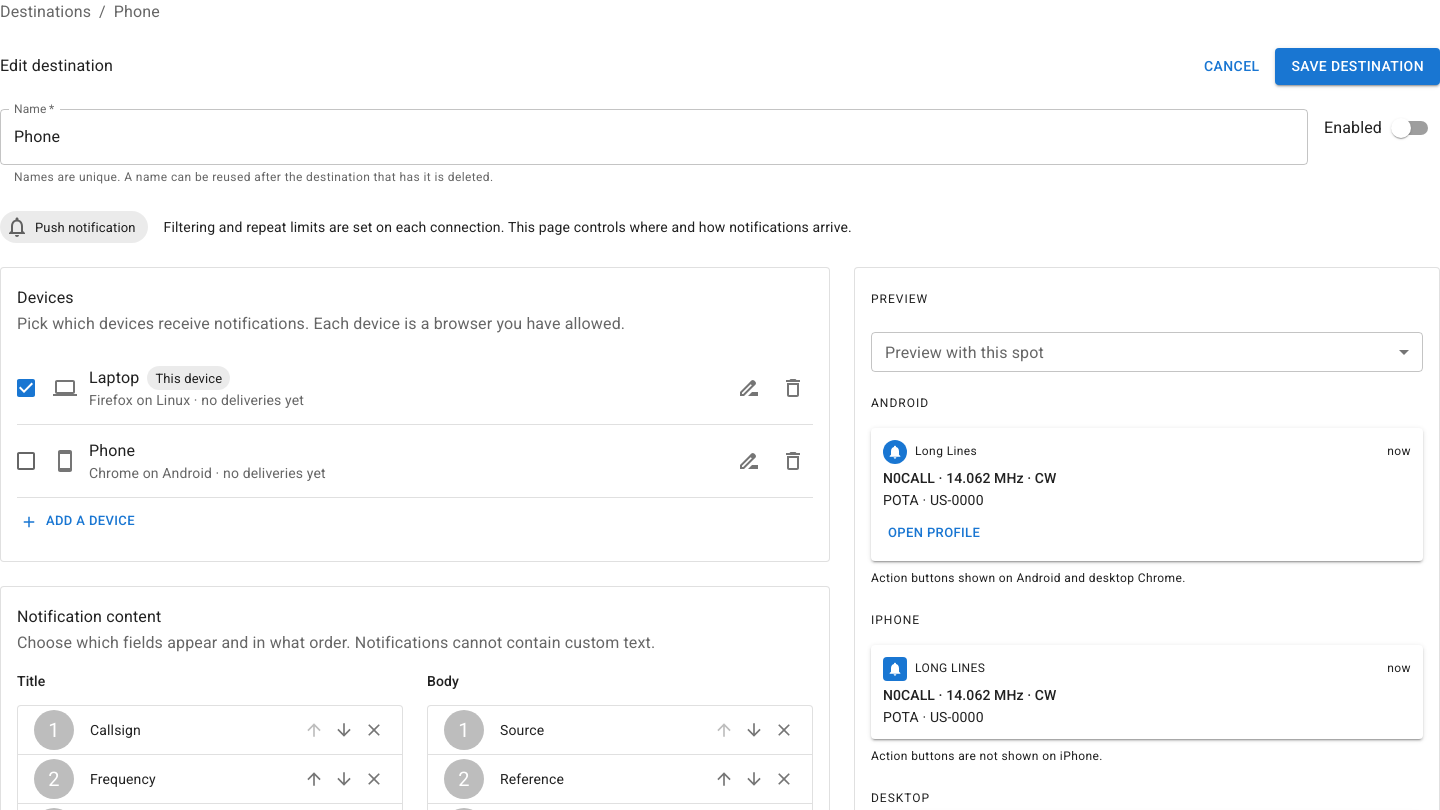
Test: devices › renames a device and reloads the list
Step 1. Click the button named "Rename Phone" → x=749, y=461, box [729,441,769,481]
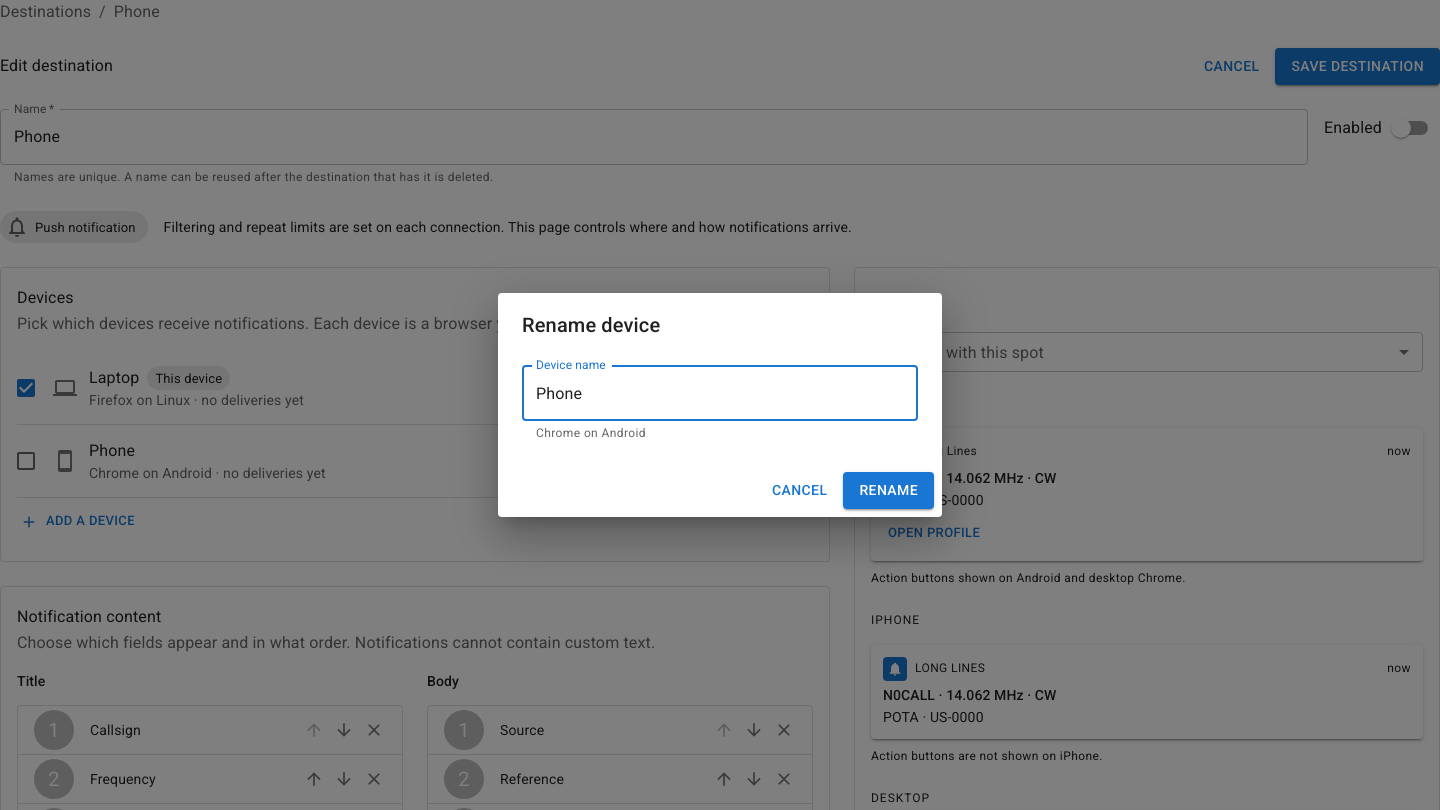
Step 2. Replace the text in the field labelled "Device name" with "Pixel" → x=720, y=393, box [522,365,918,421]
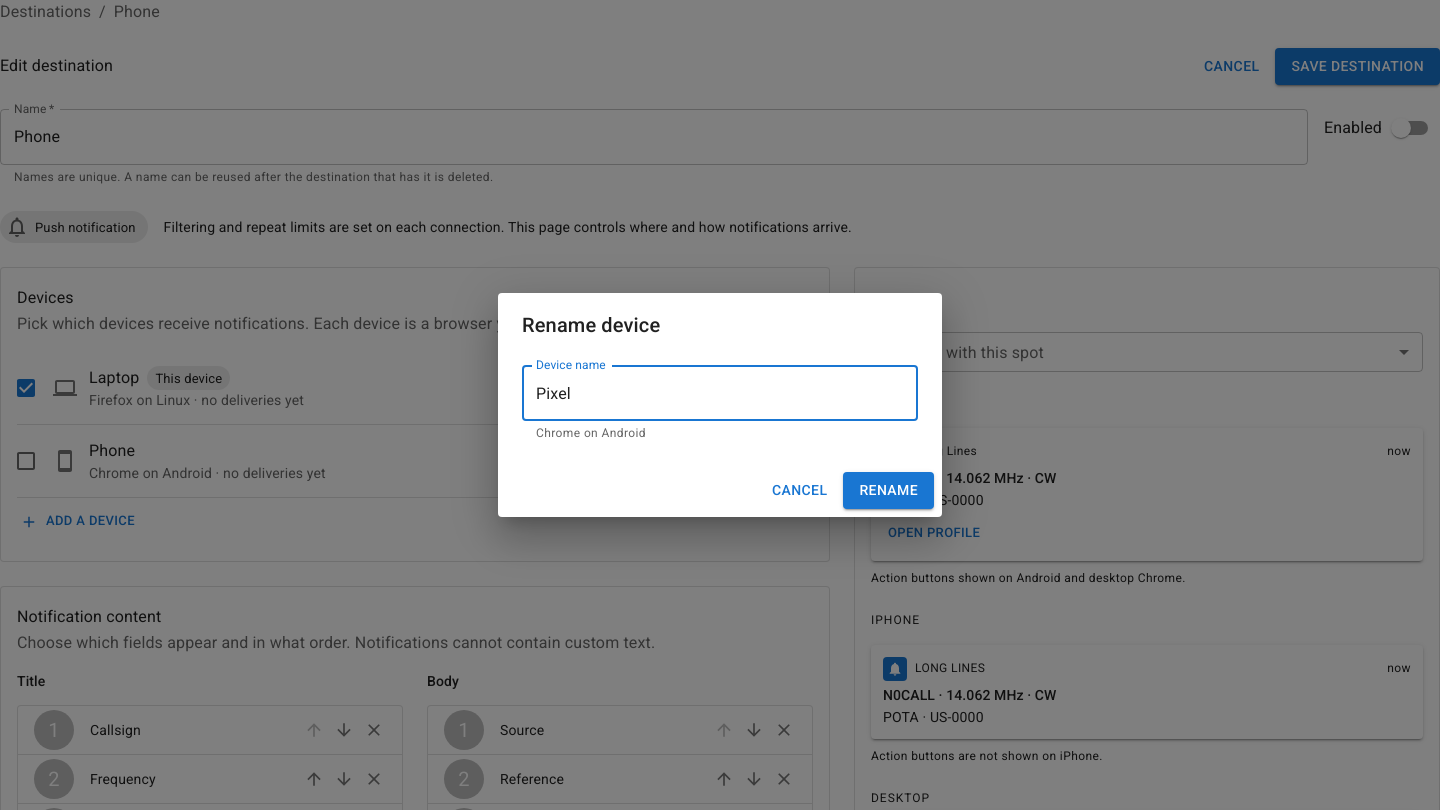
Step 3. Click the button "Rename" → x=889, y=490, box [843,472,934,509]
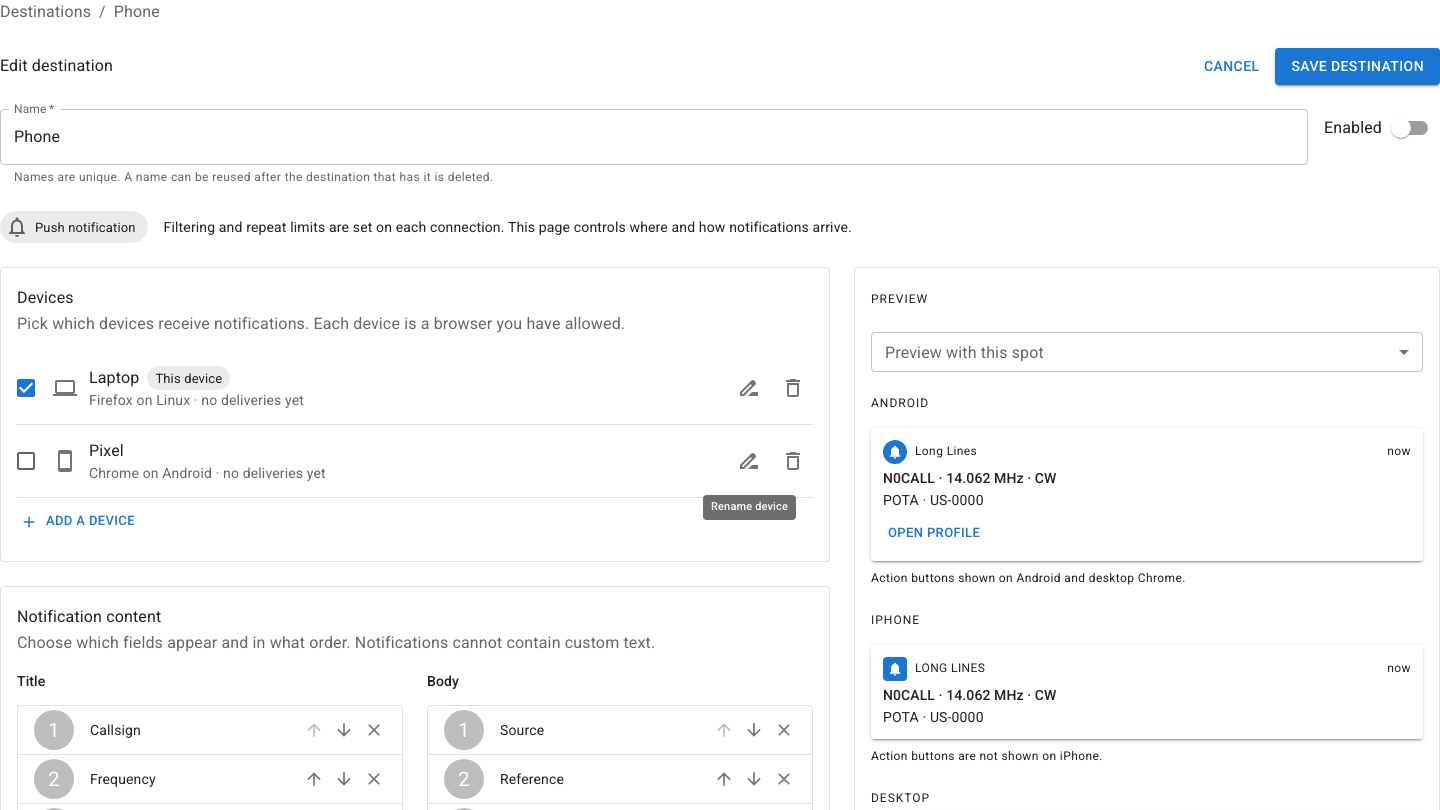
Expected: the checkbox named "Send to Pixel" is shown, [14,449,38,473]
Expected: the dialog is gone
